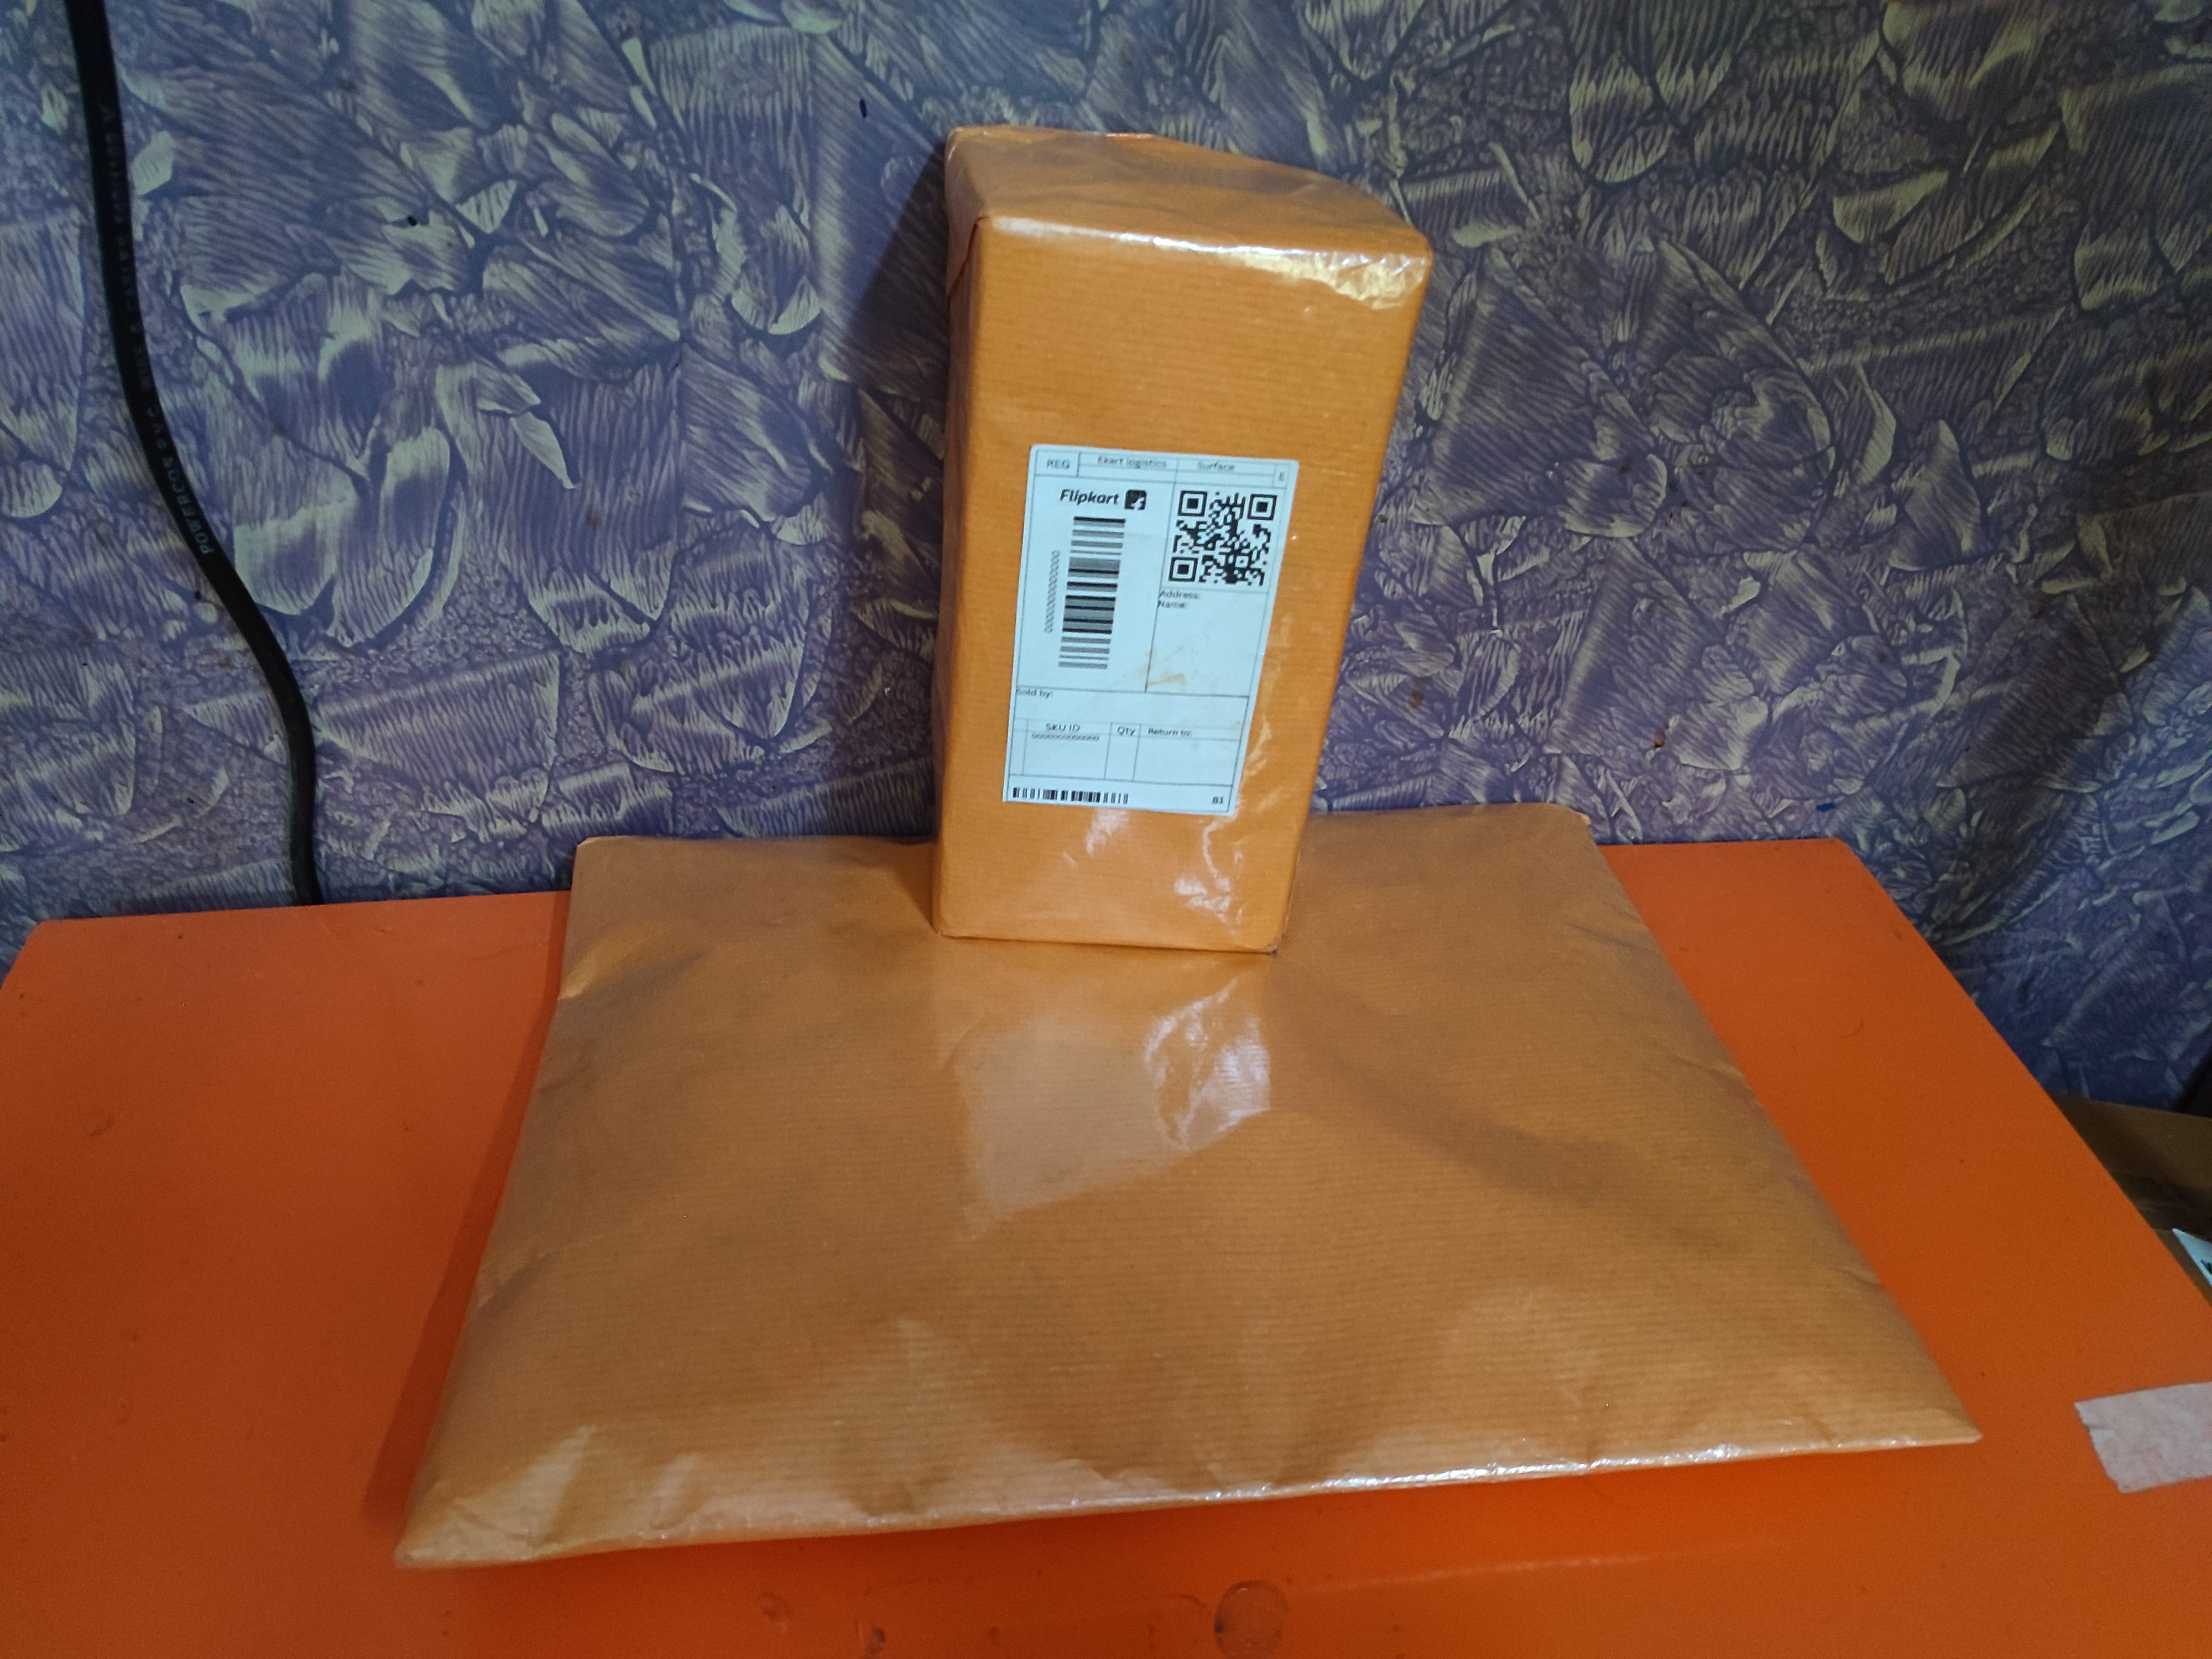Box: (359, 788, 1892, 1546), (876, 122, 1404, 1054)
